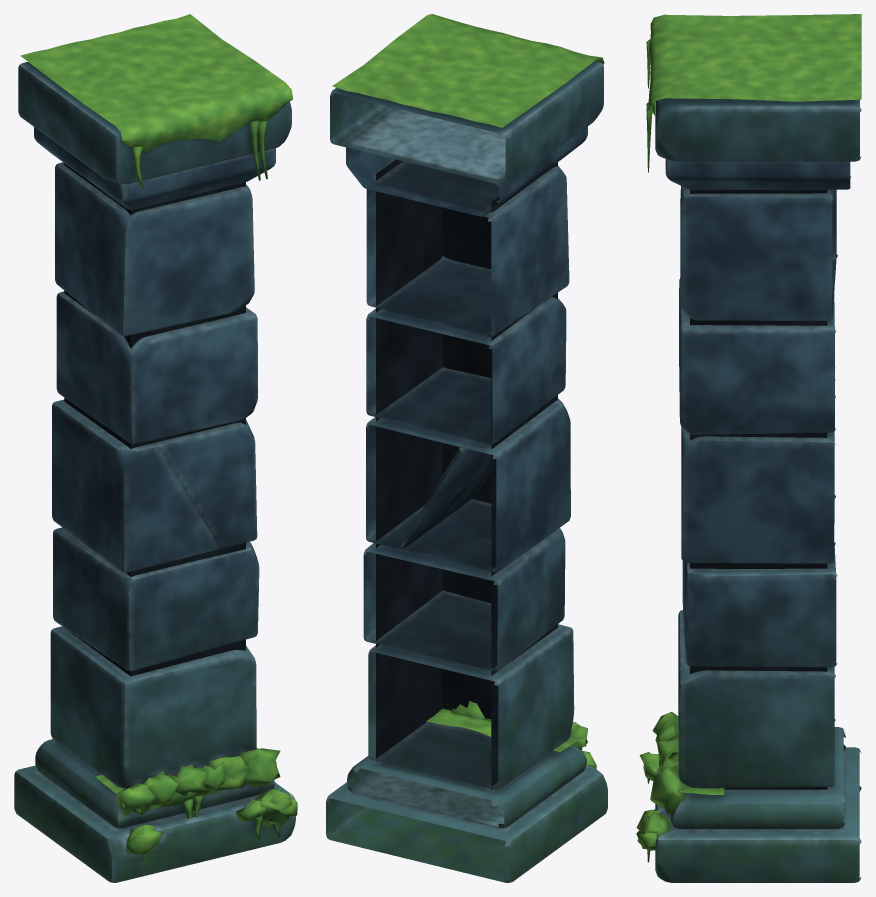
The model's file is ENV_Pillar.fbx.
3 views of the same model, side by side, from view 1: azimuth 30°, elevation 25°; view 2: azimuth 150°, elevation 25°; view 3: azimuth 270°, elevation 25° (orthographic). The views are drawn at different scales.
Parts seen in each view (by area): view 1: ENV_Pillar; view 2: ENV_Pillar; view 3: ENV_Pillar.
Part boxes in pixels (x1,y1,x2,y2): ENV_Pillar: (14,14,297,882); ENV_Pillar: (326,14,607,882); ENV_Pillar: (636,14,861,882).
Bounding box in the file's own units: 1.3 × 5.03 × 1.31.
